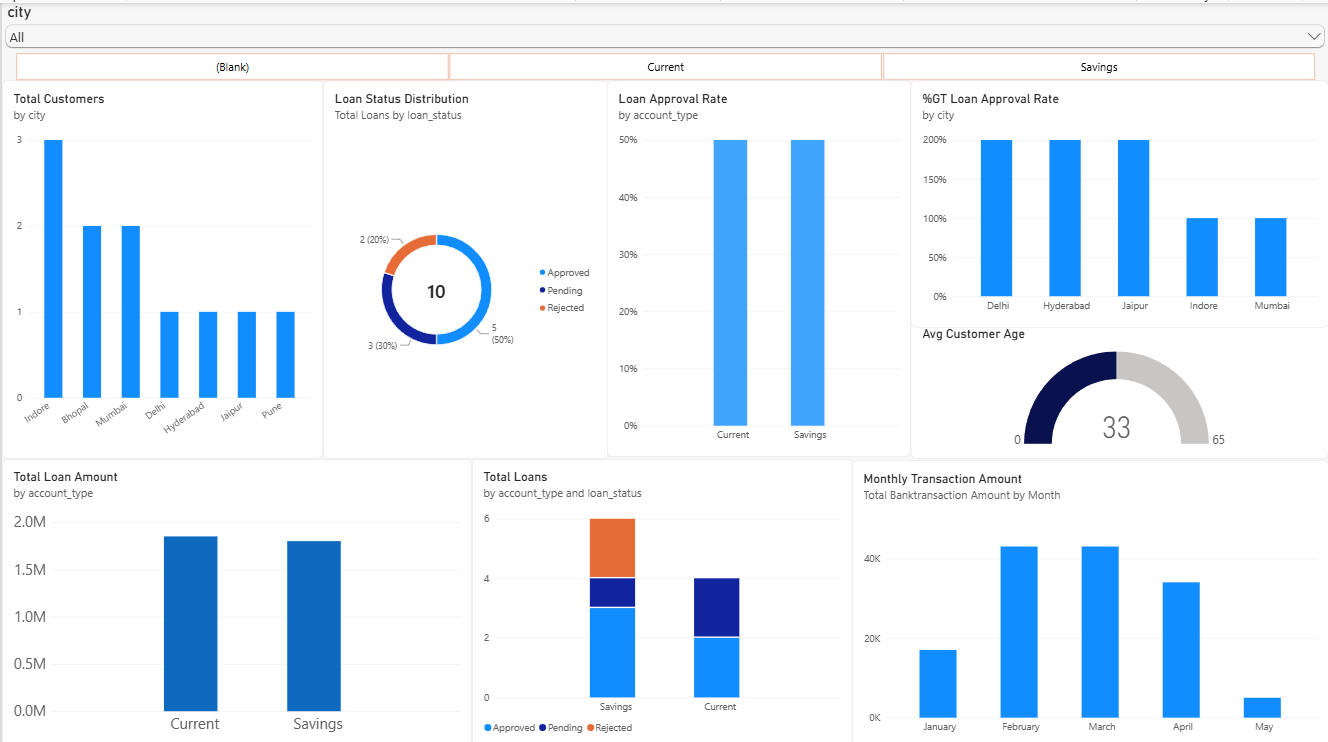

The dashboard page shown, as its layout file describes it:
{"tool":"powerbi","page":{"name":"Page 2","canvas":[1920,1080],"ordinal":1},"visuals":[{"type":"columnChart","fields":{"Category":["Customers.city"],"Y":["Customers.Total Customers"]},"box":[0,112.5,465,547.5],"z":0},{"type":"donutChart","title":"Loan Status Distribution","fields":{"Category":["Loans.loan_status"],"Y":["Loans.Total Loans"]},"box":[465,112.5,412.5,547.5],"z":1000},{"type":"columnChart","fields":{"Category":["Accounts.account_type"],"Y":["Loans.Total Loan Amount"]},"box":[0,660,680,420],"z":2000},{"type":"lineStackedColumnComboChart","title":"Monthly Transaction Amount","fields":{"Category":["Banktransactions.transaction_date.Variation.Date Hierarchy.Month"],"Y":["Banktransactions.Total Banktransaction Amount"]},"box":[1230,662.5,690,417.5],"z":3000},{"type":"slicer","fields":{"Values":["Customers.city"]},"box":[0,0,1920,70],"z":4000},{"type":"columnChart","fields":{"Category":["Accounts.account_type"],"Series":["Loans.loan_status"],"Y":["Loans.Total Loans"]},"box":[680,660,550,420],"z":5000},{"type":"gauge","fields":{"Y":["Customers.Avg Customer Age"]},"box":[1315,452.5,605,207.5],"z":6000},{"type":"columnChart","fields":{"Category":["Customers.city"],"Y":["Loans.Loan Approval Rate"]},"box":[1315,112.5,605,357.5],"z":7000},{"type":"clusteredColumnChart","fields":{"Category":["Accounts.account_type"],"Y":["Loans.Loan Approval Rate"]},"box":[875,112.5,440,545],"z":8000},{"type":"slicer","fields":{"Values":["Accounts.account_type"]},"box":[0,70,1920,42.5],"z":9000}]}

Visuals, with their boxes in screenshot pixels (x1, y1, x2, y2), scaled from the page's 1920x1080 canvas onto the 1328x742 screenshot:
columnChart - Customers.city x Customers.Total Customers: [left=0, top=77, right=322, bottom=453]
"Loan Status Distribution" donutChart: [left=322, top=77, right=607, bottom=453]
columnChart - Accounts.account_type x Loans.Total Loan Amount: [left=0, top=453, right=470, bottom=741]
"Monthly Transaction Amount" lineStackedColumnComboChart: [left=851, top=455, right=1327, bottom=741]
slicer - Customers.city: [left=0, top=0, right=1327, bottom=48]
columnChart - Accounts.account_type x Loans.loan_status: [left=470, top=453, right=851, bottom=741]
gauge - Customers.Avg Customer Age: [left=910, top=311, right=1327, bottom=453]
columnChart - Customers.city x Loans.Loan Approval Rate: [left=910, top=77, right=1327, bottom=323]
clusteredColumnChart - Accounts.account_type x Loans.Loan Approval Rate: [left=605, top=77, right=910, bottom=452]
slicer - Accounts.account_type: [left=0, top=48, right=1327, bottom=77]
